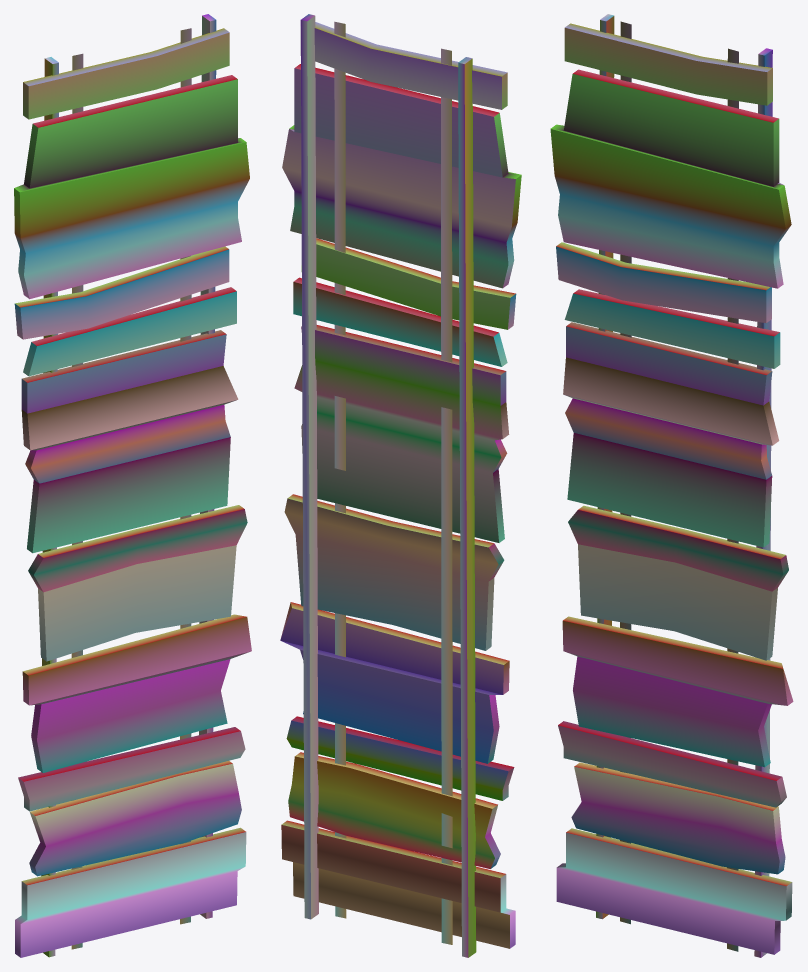
Rendered from Dock_StraightA.glb.
3 renders of one model, left to right at view 1: azimuth 30°, elevation 25°; view 2: azimuth 150°, elevation 25°; view 3: azimuth 330°, elevation 25°, orthographic.
Visible parts, largest first — view 1: MeshNode_0; view 2: MeshNode_0; view 3: MeshNode_0.
Boxes of the visible parts, box(x1,y1,x2,y2) form: MeshNode_0: box(14, 14, 251, 957); MeshNode_0: box(280, 14, 521, 957); MeshNode_0: box(550, 14, 793, 957).
Size of the model in its own units: 17.97 by 65.84 by 2.14.
